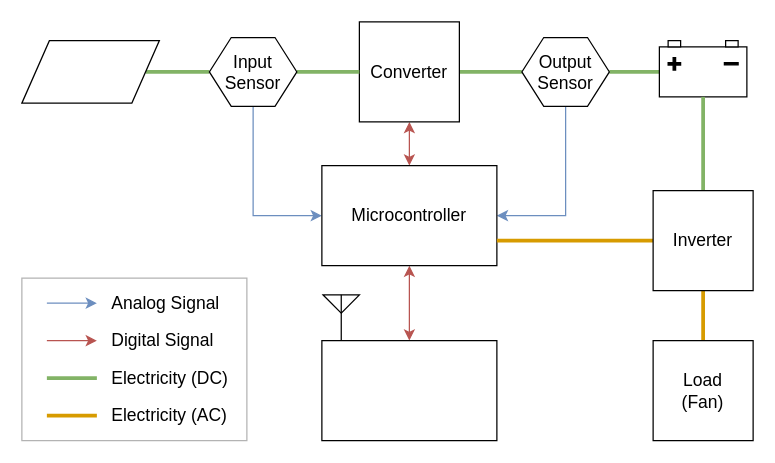
Some shapes in this 775 by 463 pixel diagram are drawn without their labels. The box of each missing label's shape, as (x1, y1, x2, y2) in pixels:
Battery: (658, 46, 747, 97)
LTE Modem: (321, 339, 497, 441)
Solar Panel: (21, 39, 159, 103)
